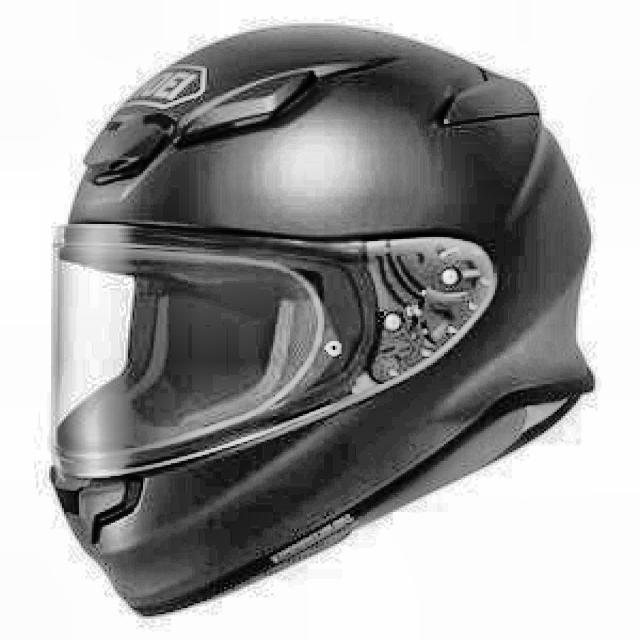Helmet: (36, 13, 616, 621)
